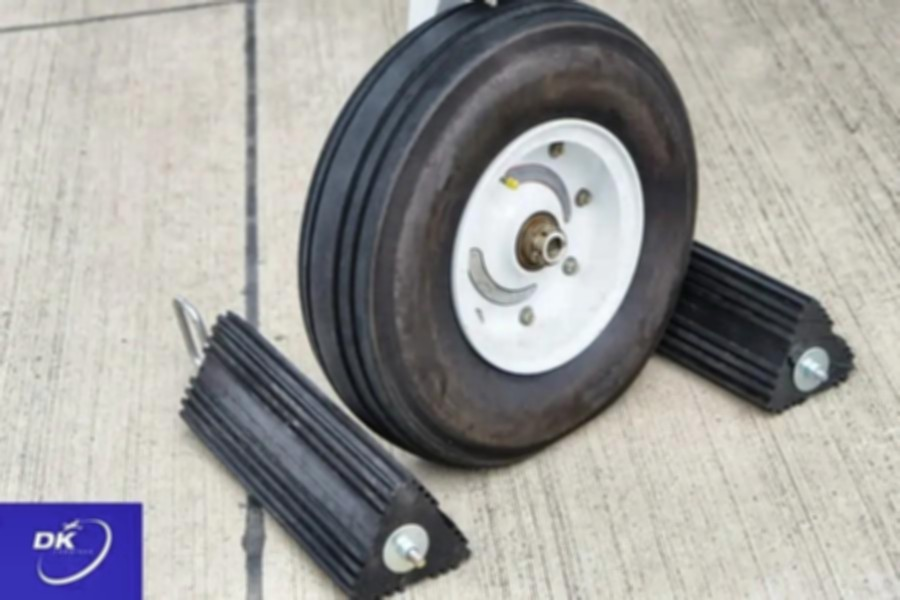chock: (176, 308, 472, 598), (592, 227, 857, 418)
wheel: (302, 2, 697, 466)
